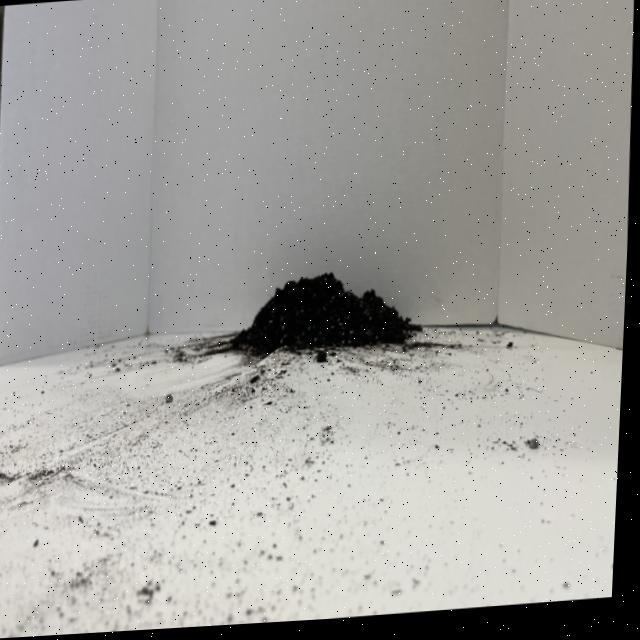soil: (226, 260, 425, 364)
